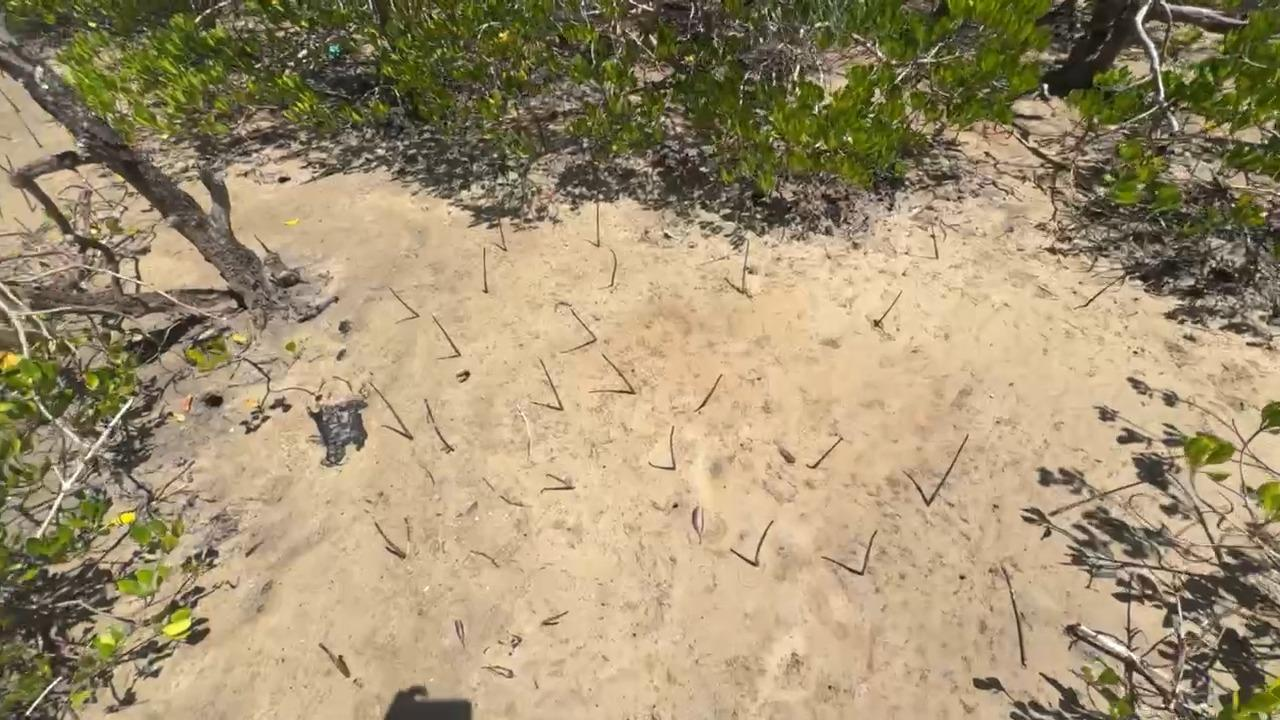Tree: (926, 433, 970, 506), (369, 382, 412, 440), (5, 154, 35, 212), (553, 302, 596, 341), (1084, 272, 1129, 307), (537, 357, 564, 410), (601, 352, 635, 394), (374, 521, 407, 560), (431, 314, 461, 356), (317, 642, 350, 679), (874, 290, 903, 327), (387, 286, 419, 317), (813, 437, 843, 469), (754, 520, 773, 567), (860, 529, 878, 576), (700, 374, 724, 407), (21, 120, 42, 148), (0, 88, 22, 113), (434, 427, 455, 451), (545, 473, 574, 490), (742, 239, 750, 291), (669, 425, 677, 470), (542, 611, 569, 624), (13, 216, 32, 234), (497, 217, 507, 251), (423, 398, 435, 424), (609, 248, 616, 287), (931, 225, 939, 258), (483, 247, 488, 294), (596, 203, 600, 247), (0, 164, 11, 174), (0, 134, 15, 141), (0, 70, 8, 79)
